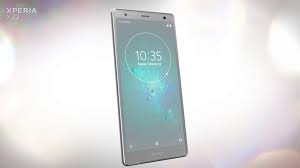sony: (107, 3, 192, 167)
